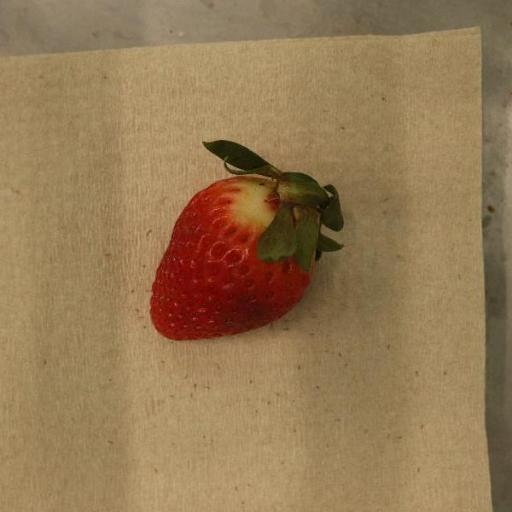Strawberry: (150, 140, 344, 341)
